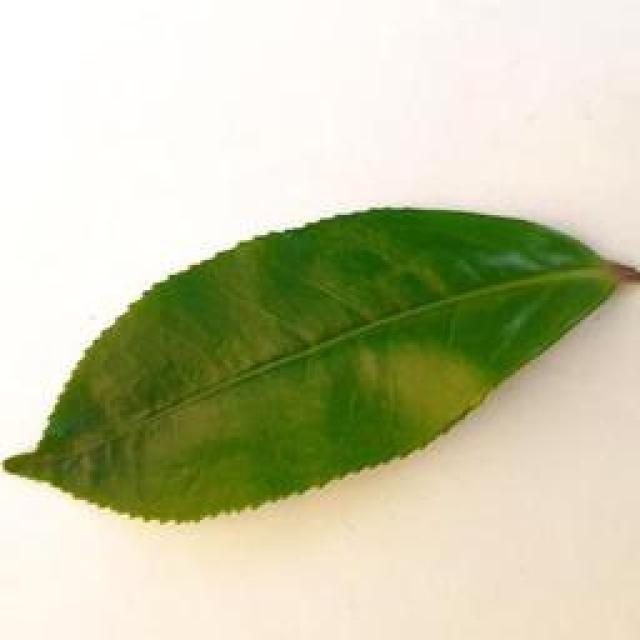Healthy: (2, 200, 640, 535)
